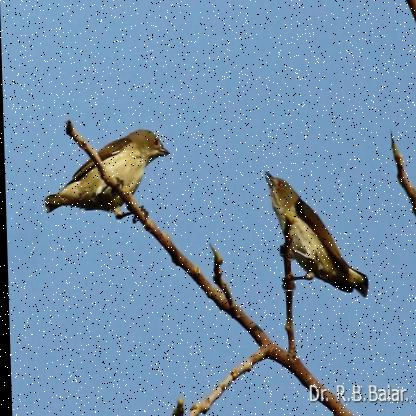Burung: (257, 169, 368, 299), (32, 128, 170, 218)
